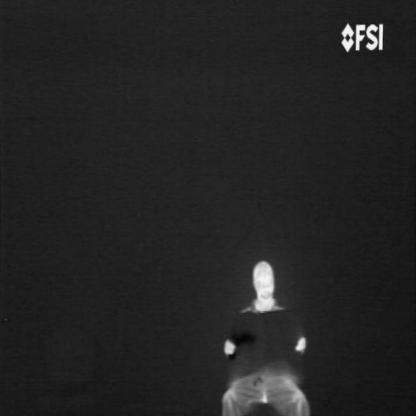weapon: (228, 328, 259, 368)
